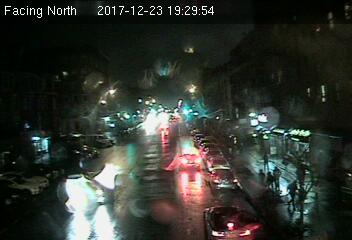car: (202, 203, 256, 240), (208, 167, 238, 190), (178, 153, 200, 170)
